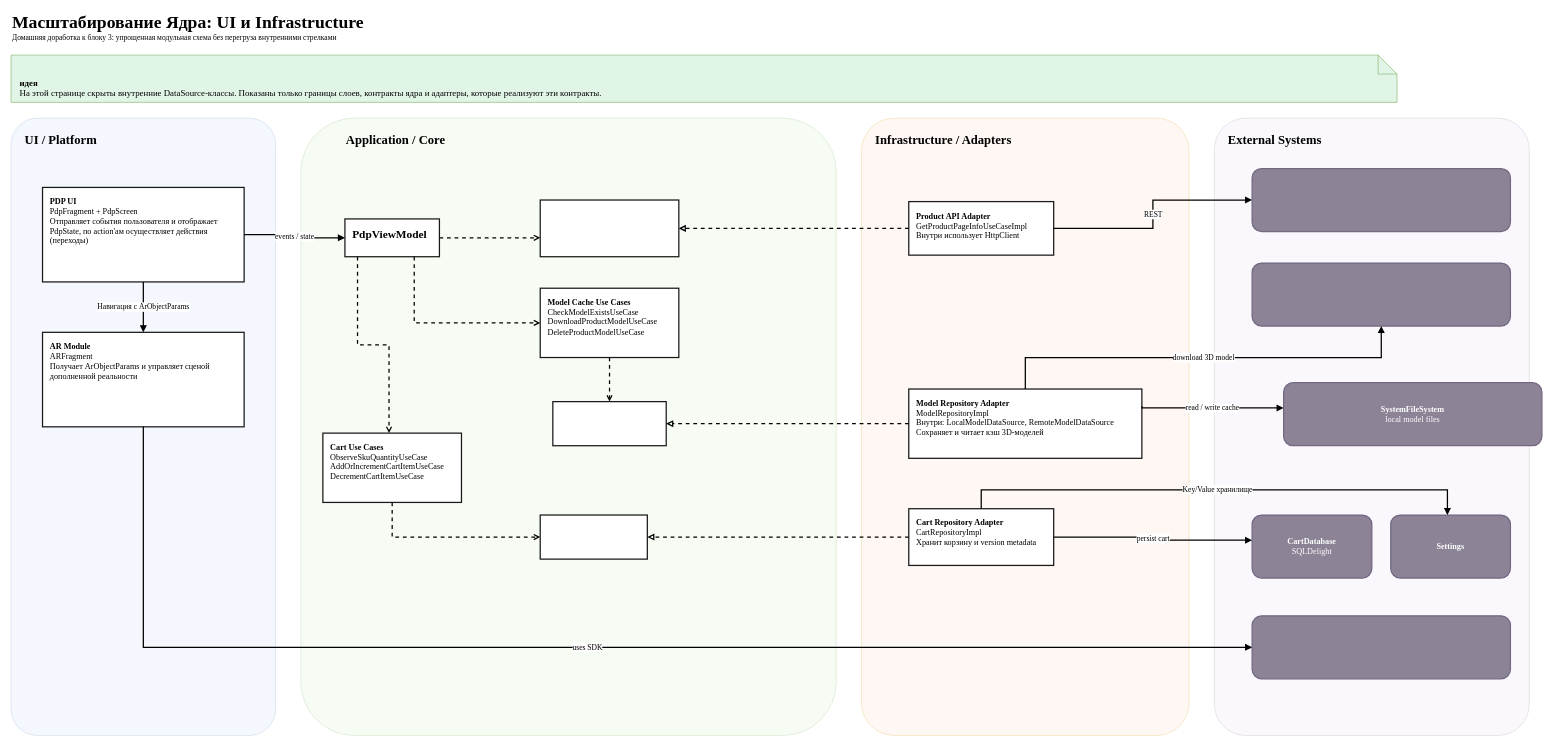
The diagram is 1554 pixels wide and 747 high, and some of its shapes have lost their labels. The shapes that lost their labels are listed below. From the top down, each one's centre as x and y in pixels, then its label:
At point 1381,200: "Backend API PDP payload".
At point 609,228: "Catalog Query Use Case GetProductPageInfoUseCase".
At point 1381,294: "CDN / Object Storage 3D models and images".
At point 609,423: "ModelRepository (repository contract)".
At point 593,536: "CartRepository (repository contract)".
At point 1381,647: "ARCore / ARKit device AR services".
